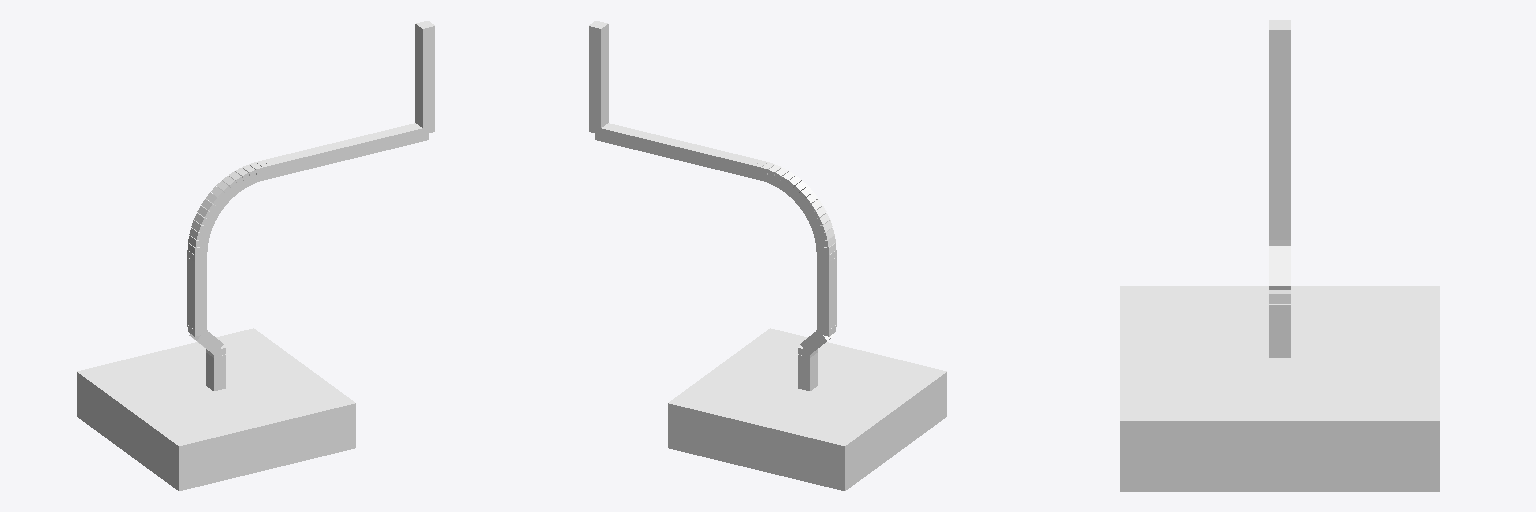
robot.urdf — maze_D:
<?xml version="1.0"?>
<robot name="maze_D">
  <link name="mazeLink">
    <material name="maze_white"><color rgba="1 1 1 1"/></material>
    <visual>
      <origin xyz="0.165000 0.000000 0.195000" rpy="0.000000 3.141593 0.000000" />
      <geometry>
        <box size="0.010000 0.010000 0.080000" />
      </geometry>
      <material name="maze_white" />
    </visual>
    <visual>
      <origin xyz="0.125000 0.000000 0.155000" rpy="0.000000 1.570796 3.141593" />
      <geometry>
        <box size="0.010000 0.010000 0.080000" />
      </geometry>
      <material name="maze_white" />
    </visual>
    <visual>
      <origin xyz="0.074798 0.000000 0.155000" rpy="0.000000 1.570796 3.141593" />
      <geometry>
        <box size="0.010000 0.010000 0.020403" />
      </geometry>
      <material name="maze_white" />
    </visual>
    <collision>
      <origin xyz="0.074798 0.000000 0.155000" rpy="0.000000 1.570796 3.141593" />
      <geometry>
        <box size="0.010000 0.010000 0.020403" />
      </geometry>
    </collision>
    <visual>
      <origin xyz="0.054395 0.000000 0.155000" rpy="0.000000 1.570796 3.141593" />
      <geometry>
        <box size="0.010000 0.010000 0.020403" />
      </geometry>
      <material name="maze_white" />
    </visual>
    <collision>
      <origin xyz="0.054395 0.000000 0.155000" rpy="0.000000 1.570796 3.141593" />
      <geometry>
        <box size="0.010000 0.010000 0.020403" />
      </geometry>
    </collision>
    <visual>
      <origin xyz="0.041643 0.000000 0.155000" rpy="0.000000 1.570796 3.141593" />
      <geometry>
        <box size="0.010000 0.010000 0.005101" />
      </geometry>
      <material name="maze_white" />
    </visual>
    <collision>
      <origin xyz="0.041643 0.000000 0.155000" rpy="0.000000 1.570796 3.141593" />
      <geometry>
        <box size="0.010000 0.010000 0.005101" />
      </geometry>
    </collision>
    <visual>
      <origin xyz="0.036543 0.000000 0.154983" rpy="0.000000 1.577544 3.141593" />
      <geometry>
        <box size="0.010000 0.010000 0.005100" />
      </geometry>
      <material name="maze_white" />
    </visual>
    <collision>
      <origin xyz="0.036543 0.000000 0.154983" rpy="0.000000 1.577544 3.141593" />
      <geometry>
        <box size="0.010000 0.010000 0.005100" />
      </geometry>
    </collision>
    <visual>
      <origin xyz="0.031450 0.000000 0.154787" rpy="0.000000 1.641024 3.141593" />
      <geometry>
        <box size="0.010000 0.010000 0.005098" />
      </geometry>
      <material name="maze_white" />
    </visual>
    <collision>
      <origin xyz="0.031450 0.000000 0.154787" rpy="0.000000 1.641024 3.141593" />
      <geometry>
        <box size="0.010000 0.010000 0.005098" />
      </geometry>
    </collision>
    <visual>
      <origin xyz="0.026397 0.000000 0.154167" rpy="0.000000 1.744854 3.141593" />
      <geometry>
        <box size="0.010000 0.010000 0.005097" />
      </geometry>
      <material name="maze_white" />
    </visual>
    <collision>
      <origin xyz="0.026397 0.000000 0.154167" rpy="0.000000 1.744854 3.141593" />
      <geometry>
        <box size="0.010000 0.010000 0.005097" />
      </geometry>
    </collision>
    <visual>
      <origin xyz="0.021434 0.000000 0.153034" rpy="0.000000 1.845367 3.141593" />
      <geometry>
        <box size="0.010000 0.010000 0.005098" />
      </geometry>
      <material name="maze_white" />
    </visual>
    <collision>
      <origin xyz="0.021434 0.000000 0.153034" rpy="0.000000 1.845367 3.141593" />
      <geometry>
        <box size="0.010000 0.010000 0.005098" />
      </geometry>
    </collision>
    <visual>
      <origin xyz="0.016612 0.000000 0.151403" rpy="0.000000 1.948650 3.141593" />
      <geometry>
        <box size="0.010000 0.010000 0.005097" />
      </geometry>
      <material name="maze_white" />
    </visual>
    <collision>
      <origin xyz="0.016612 0.000000 0.151403" rpy="0.000000 1.948650 3.141593" />
      <geometry>
        <box size="0.010000 0.010000 0.005097" />
      </geometry>
    </collision>
    <visual>
      <origin xyz="0.011981 0.000000 0.149288" rpy="0.000000 2.049706 3.141593" />
      <geometry>
        <box size="0.010000 0.010000 0.005098" />
      </geometry>
      <material name="maze_white" />
    </visual>
    <collision>
      <origin xyz="0.011981 0.000000 0.149288" rpy="0.000000 2.049706 3.141593" />
      <geometry>
        <box size="0.010000 0.010000 0.005098" />
      </geometry>
    </collision>
    <visual>
      <origin xyz="0.007589 0.000000 0.146713" rpy="0.000000 2.152447 3.141593" />
      <geometry>
        <box size="0.010000 0.010000 0.005097" />
      </geometry>
      <material name="maze_white" />
    </visual>
    <collision>
      <origin xyz="0.007589 0.000000 0.146713" rpy="0.000000 2.152447 3.141593" />
      <geometry>
        <box size="0.010000 0.010000 0.005097" />
      </geometry>
    </collision>
    <visual>
      <origin xyz="0.003483 0.000000 0.143704" rpy="0.000000 2.254048 3.141593" />
      <geometry>
        <box size="0.010000 0.010000 0.005098" />
      </geometry>
      <material name="maze_white" />
    </visual>
    <collision>
      <origin xyz="0.003483 0.000000 0.143704" rpy="0.000000 2.254048 3.141593" />
      <geometry>
        <box size="0.010000 0.010000 0.005098" />
      </geometry>
    </collision>
    <visual>
      <origin xyz="-0.000295 0.000000 0.140293" rpy="0.000000 2.356242 3.141593" />
      <geometry>
        <box size="0.010000 0.010000 0.005097" />
      </geometry>
      <material name="maze_white" />
    </visual>
    <collision>
      <origin xyz="-0.000295 0.000000 0.140293" rpy="0.000000 2.356242 3.141593" />
      <geometry>
        <box size="0.010000 0.010000 0.005097" />
      </geometry>
    </collision>
    <visual>
      <origin xyz="-0.003706 0.000000 0.136514" rpy="0.000000 2.458388 3.141593" />
      <geometry>
        <box size="0.010000 0.010000 0.005098" />
      </geometry>
      <material name="maze_white" />
    </visual>
    <collision>
      <origin xyz="-0.003706 0.000000 0.136514" rpy="0.000000 2.458388 3.141593" />
      <geometry>
        <box size="0.010000 0.010000 0.005098" />
      </geometry>
    </collision>
    <visual>
      <origin xyz="-0.006715 0.000000 0.132408" rpy="0.000000 2.560039 3.141593" />
      <geometry>
        <box size="0.010000 0.010000 0.005097" />
      </geometry>
      <material name="maze_white" />
    </visual>
    <collision>
      <origin xyz="-0.006715 0.000000 0.132408" rpy="0.000000 2.560039 3.141593" />
      <geometry>
        <box size="0.010000 0.010000 0.005097" />
      </geometry>
    </collision>
    <visual>
      <origin xyz="-0.009290 0.000000 0.128016" rpy="0.000000 2.662730 3.141593" />
      <geometry>
        <box size="0.010000 0.010000 0.005098" />
      </geometry>
      <material name="maze_white" />
    </visual>
    <collision>
      <origin xyz="-0.009290 0.000000 0.128016" rpy="0.000000 2.662730 3.141593" />
      <geometry>
        <box size="0.010000 0.010000 0.005098" />
      </geometry>
    </collision>
    <visual>
      <origin xyz="-0.011404 0.000000 0.123385" rpy="0.000000 2.763834 3.141593" />
      <geometry>
        <box size="0.010000 0.010000 0.005097" />
      </geometry>
      <material name="maze_white" />
    </visual>
    <collision>
      <origin xyz="-0.011404 0.000000 0.123385" rpy="0.000000 2.763834 3.141593" />
      <geometry>
        <box size="0.010000 0.010000 0.005097" />
      </geometry>
    </collision>
    <visual>
      <origin xyz="-0.013035 0.000000 0.118563" rpy="0.000000 2.867071 3.141593" />
      <geometry>
        <box size="0.010000 0.010000 0.005098" />
      </geometry>
      <material name="maze_white" />
    </visual>
    <collision>
      <origin xyz="-0.013035 0.000000 0.118563" rpy="0.000000 2.867071 3.141593" />
      <geometry>
        <box size="0.010000 0.010000 0.005098" />
      </geometry>
    </collision>
    <visual>
      <origin xyz="-0.014167 0.000000 0.113599" rpy="0.000000 2.967630 3.141593" />
      <geometry>
        <box size="0.010000 0.010000 0.005097" />
      </geometry>
      <material name="maze_white" />
    </visual>
    <collision>
      <origin xyz="-0.014167 0.000000 0.113599" rpy="0.000000 2.967630 3.141593" />
      <geometry>
        <box size="0.010000 0.010000 0.005097" />
      </geometry>
    </collision>
    <visual>
      <origin xyz="-0.014787 0.000000 0.108547" rpy="0.000000 3.071412 3.141593" />
      <geometry>
        <box size="0.010000 0.010000 0.005098" />
      </geometry>
      <material name="maze_white" />
    </visual>
    <collision>
      <origin xyz="-0.014787 0.000000 0.108547" rpy="0.000000 3.071412 3.141593" />
      <geometry>
        <box size="0.010000 0.010000 0.005098" />
      </geometry>
    </collision>
    <visual>
      <origin xyz="-0.014983 0.000000 0.103454" rpy="0.000000 3.134869 3.141593" />
      <geometry>
        <box size="0.010000 0.010000 0.005100" />
      </geometry>
      <material name="maze_white" />
    </visual>
    <collision>
      <origin xyz="-0.014983 0.000000 0.103454" rpy="0.000000 3.134869 3.141593" />
      <geometry>
        <box size="0.010000 0.010000 0.005100" />
      </geometry>
    </collision>
    <visual>
      <origin xyz="-0.015000 0.000000 0.098353" rpy="0.000000 3.141593 0.000000" />
      <geometry>
        <box size="0.010000 0.010000 0.005101" />
      </geometry>
      <material name="maze_white" />
    </visual>
    <collision>
      <origin xyz="-0.015000 0.000000 0.098353" rpy="0.000000 3.141593 0.000000" />
      <geometry>
        <box size="0.010000 0.010000 0.005101" />
      </geometry>
    </collision>
    <visual>
      <origin xyz="-0.015000 0.000000 0.085601" rpy="0.000000 3.141593 0.000000" />
      <geometry>
        <box size="0.010000 0.010000 0.020403" />
      </geometry>
      <material name="maze_white" />
    </visual>
    <collision>
      <origin xyz="-0.015000 0.000000 0.085601" rpy="0.000000 3.141593 0.000000" />
      <geometry>
        <box size="0.010000 0.010000 0.020403" />
      </geometry>
    </collision>
    <visual>
      <origin xyz="-0.015000 0.000000 0.065198" rpy="0.000000 3.141593 0.000000" />
      <geometry>
        <box size="0.010000 0.010000 0.020403" />
      </geometry>
      <material name="maze_white" />
    </visual>
    <collision>
      <origin xyz="-0.015000 0.000000 0.065198" rpy="0.000000 3.141593 0.000000" />
      <geometry>
        <box size="0.010000 0.010000 0.020403" />
      </geometry>
    </collision>
    <visual>
      <origin xyz="-0.015000 0.000000 0.052446" rpy="0.000000 3.141593 0.000000" />
      <geometry>
        <box size="0.010000 0.010000 0.005101" />
      </geometry>
      <material name="maze_white" />
    </visual>
    <collision>
      <origin xyz="-0.015000 0.000000 0.052446" rpy="0.000000 3.141593 0.000000" />
      <geometry>
        <box size="0.010000 0.010000 0.005101" />
      </geometry>
    </collision>
    <visual>
      <origin xyz="-0.014927 0.000000 0.047375" rpy="0.000000 3.112820 0.000000" />
      <geometry>
        <box size="0.010000 0.010000 0.005043" />
      </geometry>
      <material name="maze_white" />
    </visual>
    <collision>
      <origin xyz="-0.014927 0.000000 0.047375" rpy="0.000000 3.112820 0.000000" />
      <geometry>
        <box size="0.010000 0.010000 0.005043" />
      </geometry>
    </collision>
    <visual>
      <origin xyz="-0.013052 0.000000 0.043052" rpy="0.000000 2.356194 0.000000" />
      <geometry>
        <box size="0.010000 0.010000 0.005101" />
      </geometry>
      <material name="maze_white" />
    </visual>
    <collision>
      <origin xyz="-0.013052 0.000000 0.043052" rpy="0.000000 2.356194 0.000000" />
      <geometry>
        <box size="0.010000 0.010000 0.005101" />
      </geometry>
    </collision>
    <visual>
      <origin xyz="-0.007641 0.000000 0.037641" rpy="0.000000 2.356194 0.000000" />
      <geometry>
        <box size="0.010000 0.010000 0.010202" />
      </geometry>
      <material name="maze_white" />
    </visual>
    <collision>
      <origin xyz="-0.007641 0.000000 0.037641" rpy="0.000000 2.356194 0.000000" />
      <geometry>
        <box size="0.010000 0.010000 0.010202" />
      </geometry>
    </collision>
    <visual>
      <origin xyz="-0.002231 0.000000 0.032231" rpy="0.000000 2.356194 0.000000" />
      <geometry>
        <box size="0.010000 0.010000 0.005101" />
      </geometry>
      <material name="maze_white" />
    </visual>
    <collision>
      <origin xyz="-0.002231 0.000000 0.032231" rpy="0.000000 2.356194 0.000000" />
      <geometry>
        <box size="0.010000 0.010000 0.005101" />
      </geometry>
    </collision>
    <visual>
      <origin xyz="-0.000214 0.000000 0.027966" rpy="0.000000 3.054949 0.000000" />
      <geometry>
        <box size="0.010000 0.010000 0.004942" />
      </geometry>
      <material name="maze_white" />
    </visual>
    <collision>
      <origin xyz="-0.000214 0.000000 0.027966" rpy="0.000000 3.054949 0.000000" />
      <geometry>
        <box size="0.010000 0.010000 0.004942" />
      </geometry>
    </collision>
    <visual>
      <origin xyz="-0.000000 0.000000 0.022954" rpy="0.000000 3.141593 0.000000" />
      <geometry>
        <box size="0.010000 0.010000 0.005101" />
      </geometry>
      <material name="maze_white" />
    </visual>
    <collision>
      <origin xyz="-0.000000 0.000000 0.022954" rpy="0.000000 3.141593 0.000000" />
      <geometry>
        <box size="0.010000 0.010000 0.005101" />
      </geometry>
    </collision>
    <visual>
      <origin xyz="-0.000000 0.000000 0.010202" rpy="0.000000 3.141593 0.000000" />
      <geometry>
        <box size="0.010000 0.010000 0.020403" />
      </geometry>
      <material name="maze_white" />
    </visual>
    <collision>
      <origin xyz="-0.000000 0.000000 0.010202" rpy="0.000000 3.141593 0.000000" />
      <geometry>
        <box size="0.010000 0.010000 0.020403" />
      </geometry>
    </collision>
    <visual>
      <origin xyz="0 0 -0.017" rpy="0 0 0" />
      <geometry>
        <box size="0.14 0.14 0.034" />
      </geometry>
      <material name="maze_white" />
    </visual>
    <collision>
      <origin xyz="0 0 -0.017" rpy="0 0 0" />
      <geometry>
        <box size="0.14 0.14 0.034" />
      </geometry>
    </collision>
  </link>
</robot>

--- What the picture shows (computed from the rendered views, not written in the file) ---
The picture shows the robot from 3 angles, left to right: view 1: azimuth 30°, elevation 25°; view 2: azimuth 150°, elevation 25°; view 3: azimuth 270°, elevation 25°; orthographic projection.
Model maze_D with 1 links and 0 joints (none), rooted at mazeLink, posed all joints at 0.
Visible links, largest first — view 1: mazeLink; view 2: mazeLink; view 3: mazeLink.
Boxes of the visible links, box(x1,y1,x2,y2) form: mazeLink: box(77, 21, 434, 490); mazeLink: box(589, 21, 946, 490); mazeLink: box(1120, 20, 1439, 491).
Size in the robot's own frame: 0.24 by 0.14 by 0.269 metres.
Geometry: primitives only (box / cylinder / sphere), no mesh files.
